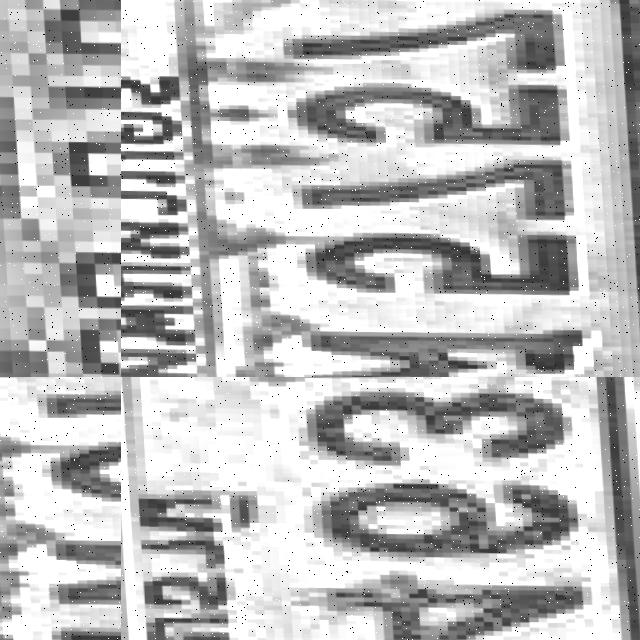license-plate: (121, 0, 640, 377), (121, 377, 640, 640), (0, 0, 121, 377), (0, 377, 121, 640)
